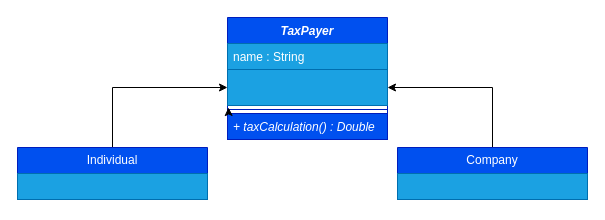
Some shapes in this 605 by 220 pixel diagram are drawn without their labels. The shapes that lost their labels are listed below. From the top down, each one's centre as x and y in pixels, then its label:
At point 307,87: "incomeAnnual : Double".
At point 112,186: "HealthcareSpending : Double".
At point 492,186: "NumberOfEmployees : int".
